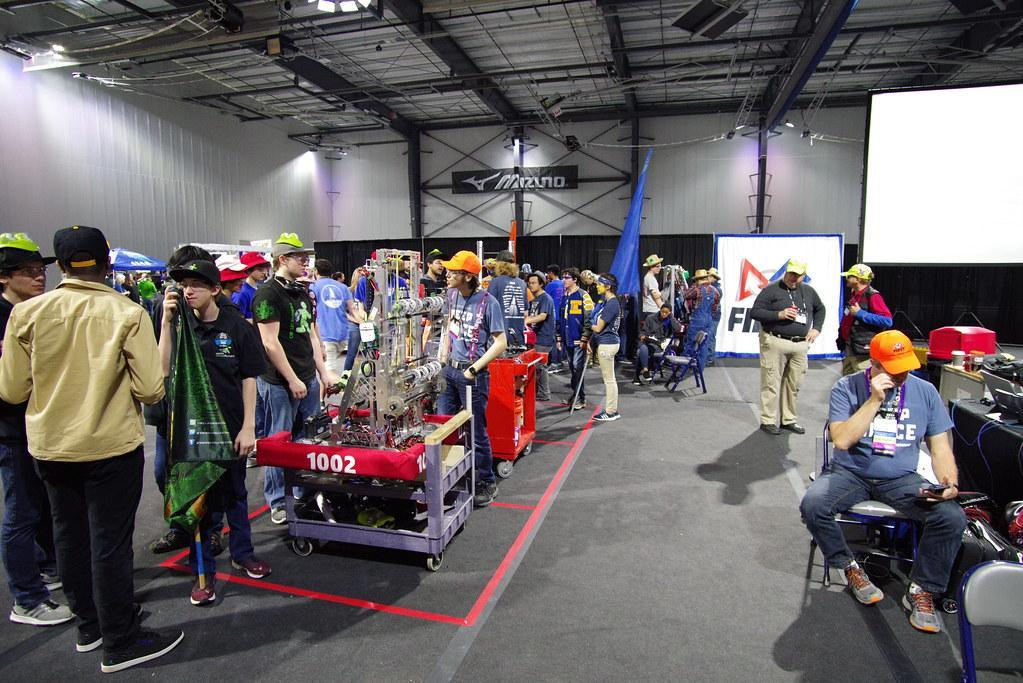robot: (253, 240, 465, 485)
